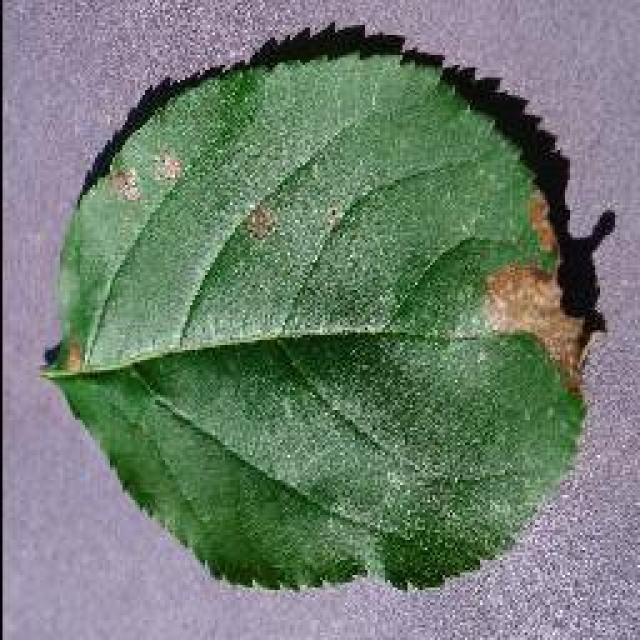apple scab disease: (40, 17, 615, 595)
